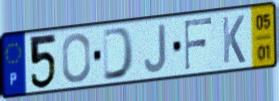5: (27, 31, 59, 90)
D: (101, 25, 136, 83)
F: (183, 16, 214, 73)
J: (143, 22, 169, 75)
K: (220, 14, 247, 66)
O: (61, 31, 92, 85)
